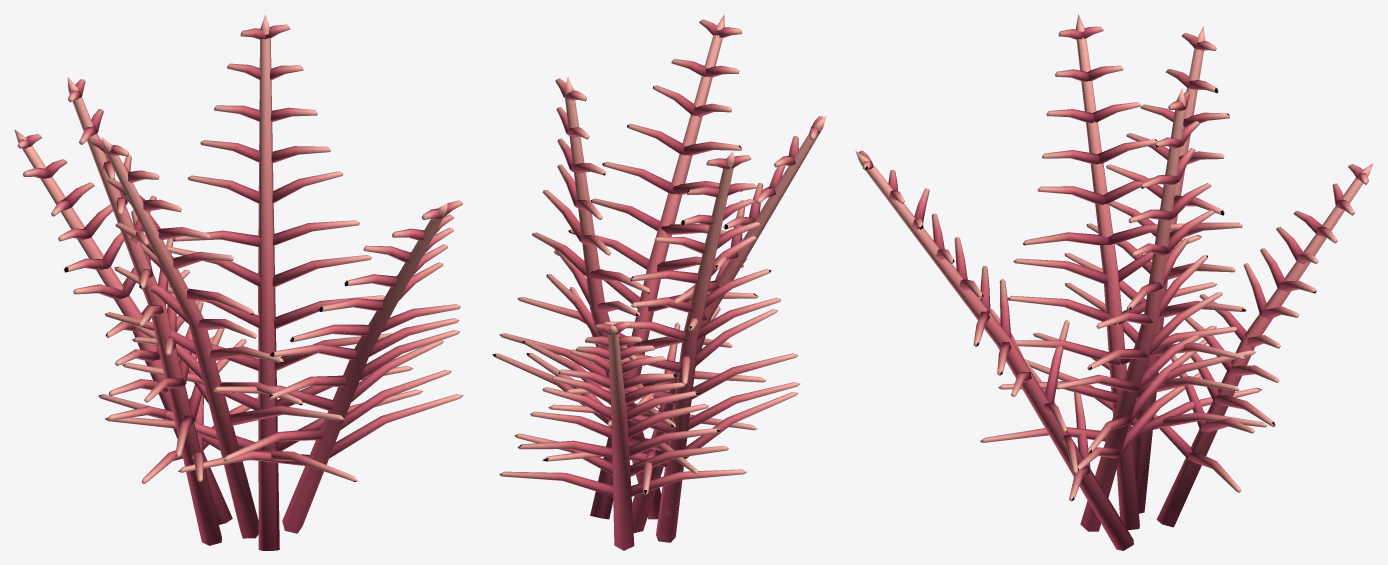
File: Seaweed_Feather.fbx
3 views of the same model, side by side, from view 1: azimuth 30°, elevation 25°; view 2: azimuth 150°, elevation 25°; view 3: azimuth 270°, elevation 25° (orthographic). The views are drawn at different scales.
Visible parts, largest first — view 1: Seaweed_Feather; view 2: Seaweed_Feather; view 3: Seaweed_Feather.
Part boxes in pixels (<box>): Seaweed_Feather: <box>14,14,463,550</box>; Seaweed_Feather: <box>492,14,826,550</box>; Seaweed_Feather: <box>855,14,1373,550</box>.
Bounding box in the file's own units: 0.3338 × 0.4389 × 0.4448.
